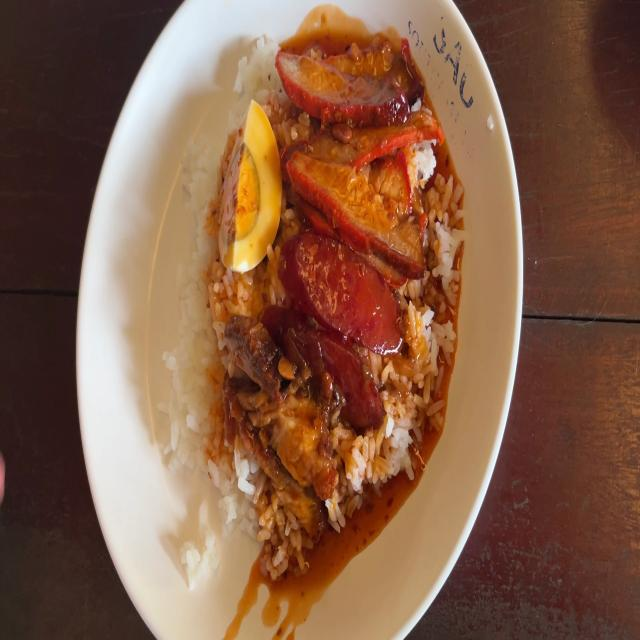01boiled_egg: (218, 113, 279, 266)
01chainese_sausage: (297, 244, 393, 414)
01crispy_pork: (266, 402, 327, 524), (235, 319, 286, 452)
01red_pork: (285, 32, 439, 239)
01red_pork_and_crispy_pork: (197, 39, 454, 532)
01rice: (180, 290, 227, 490), (361, 412, 416, 499)
